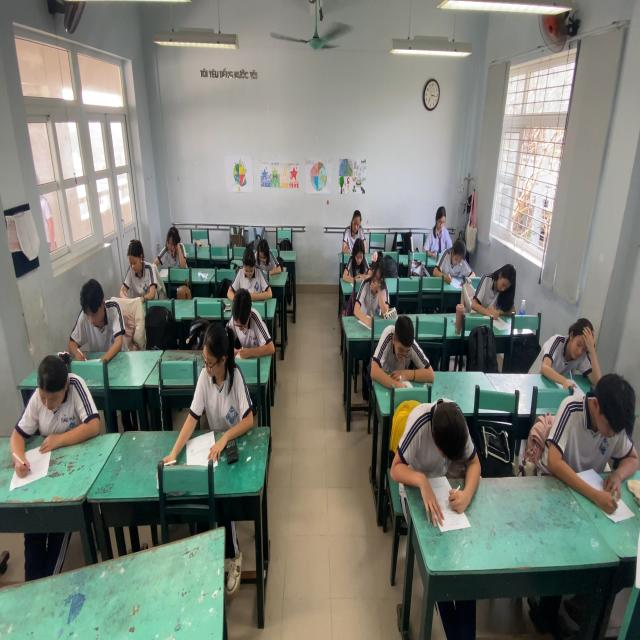not_cheating: (556, 371, 637, 472), (194, 316, 254, 441), (405, 395, 474, 496), (24, 358, 99, 440), (374, 316, 433, 378), (74, 282, 122, 354), (474, 254, 522, 319), (225, 284, 272, 350), (538, 319, 596, 371), (122, 233, 159, 305), (361, 251, 394, 319), (234, 243, 268, 295), (332, 209, 378, 247), (424, 202, 454, 250), (157, 219, 186, 268), (441, 236, 470, 282), (348, 233, 370, 282), (254, 240, 279, 281)
